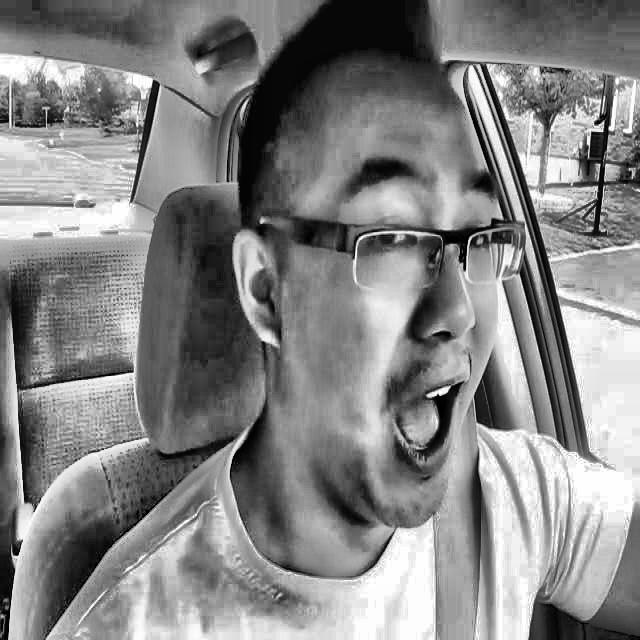open_mouth: (373, 356, 484, 492)
